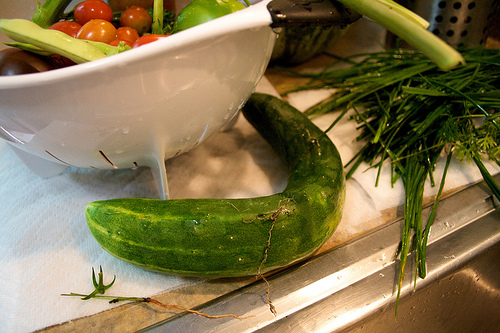cucumber: (87, 90, 348, 273)
